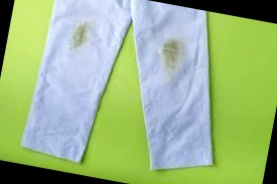earth: (160, 38, 183, 71), (69, 20, 92, 49)
